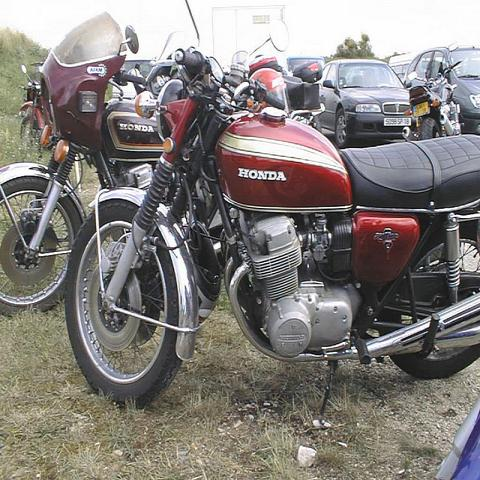car: (318, 61, 415, 149), (404, 43, 480, 134), (388, 49, 424, 79)
motorcycle: (64, 47, 479, 429), (1, 14, 180, 318), (402, 42, 466, 143)
truck: (287, 57, 325, 76)
